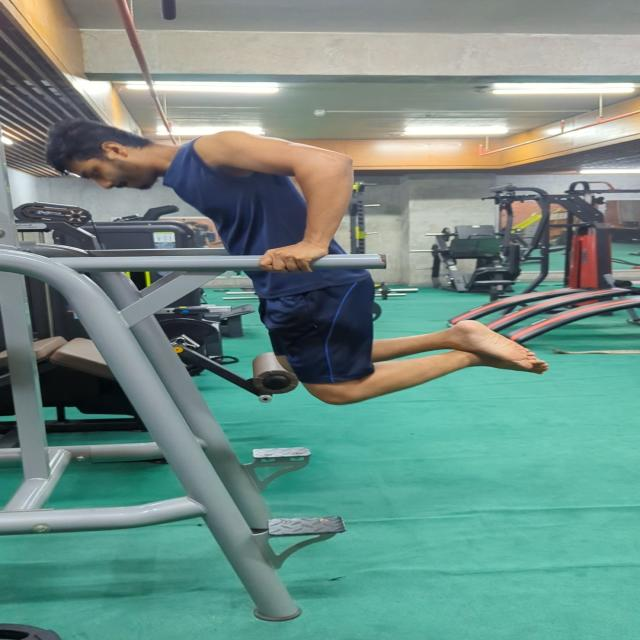Normal_Dips: (42, 110, 557, 408)
